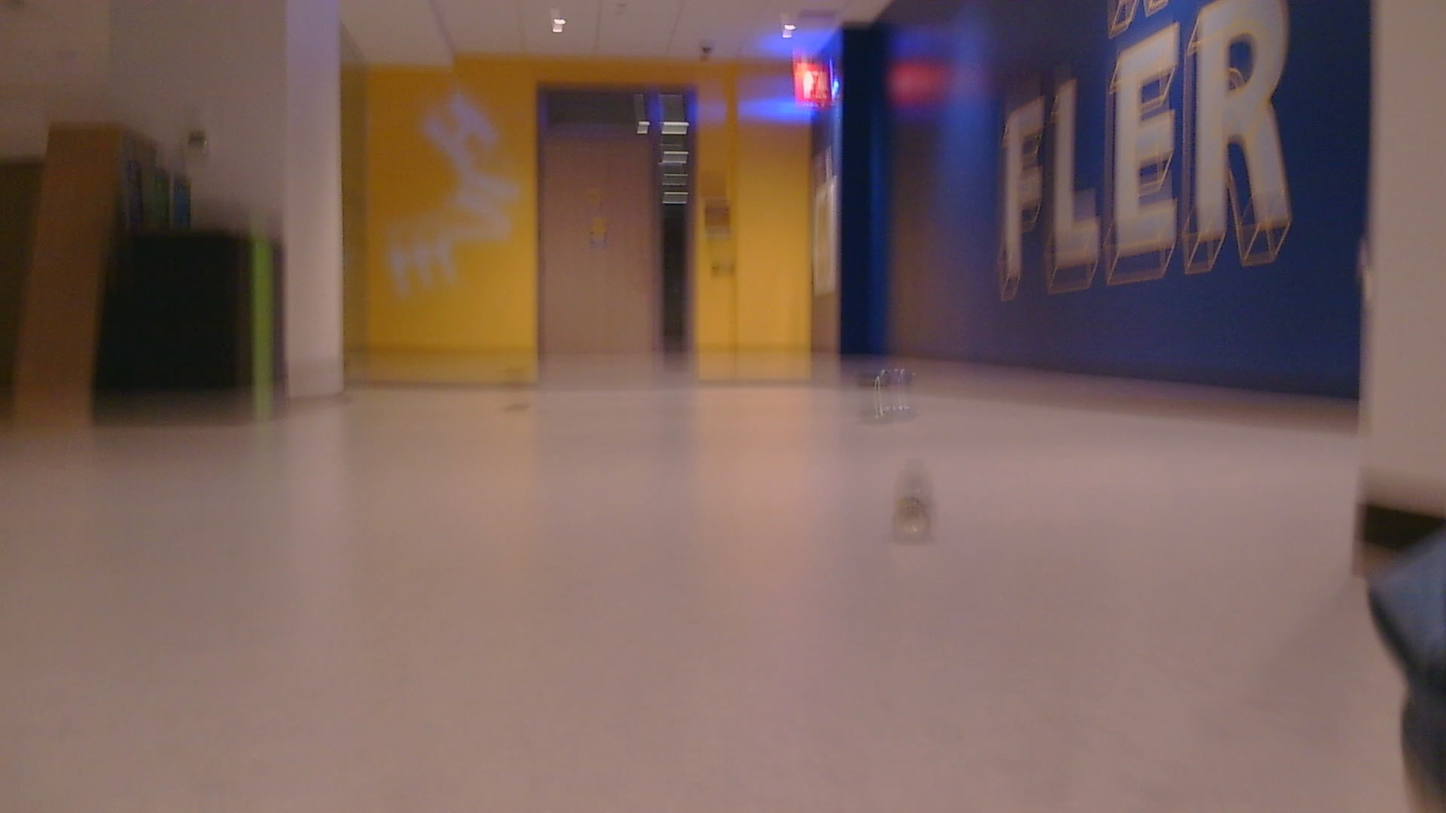can: (889, 458, 947, 550), (855, 365, 920, 426)
